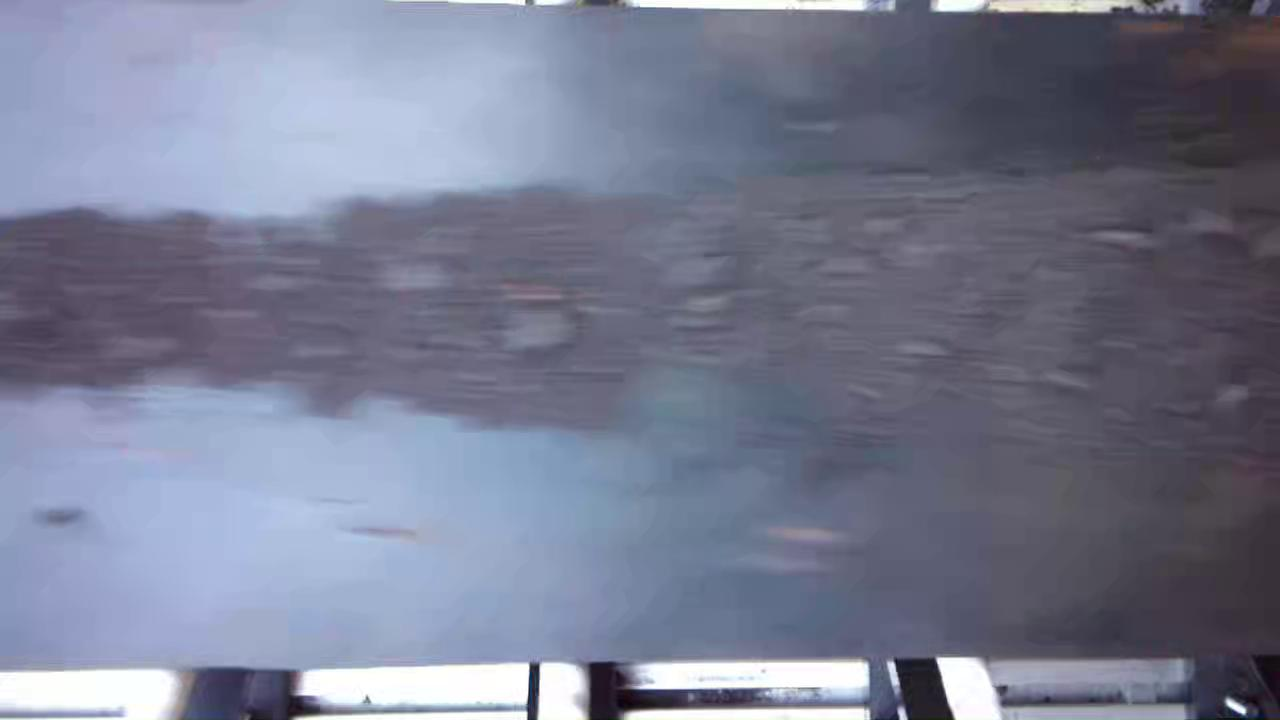conveyor: (8, 16, 1280, 654)
